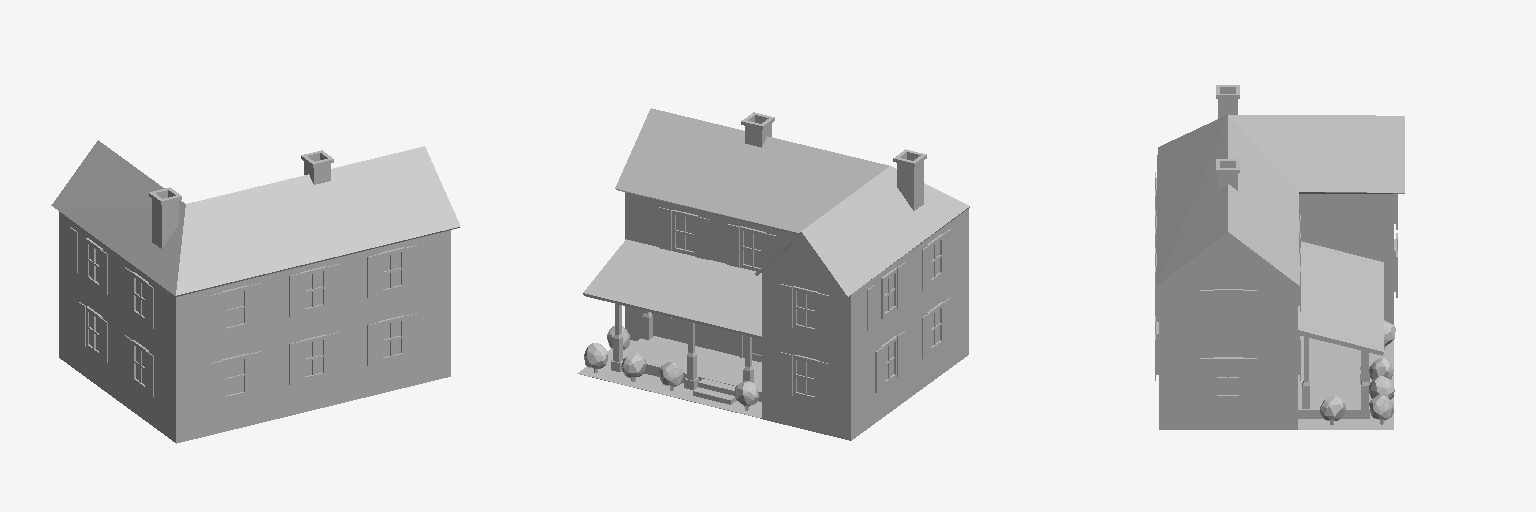
File: home.obj
3 views of the same model, side by side, from view 1: azimuth 30°, elevation 25°; view 2: azimuth 150°, elevation 25°; view 3: azimuth 270°, elevation 25° (orthographic).
Parts seen in each view (by area): view 1: FarmHouse; view 2: FarmHouse; view 3: FarmHouse.
Boxes of the visible parts, x1=… form: FarmHouse: x1=51, y1=140, x2=460, y2=443; FarmHouse: x1=577, y1=108, x2=969, y2=440; FarmHouse: x1=1155, y1=85, x2=1404, y2=429.
Bounding box in the file's own units: 2.53 × 1.84 × 1.91.